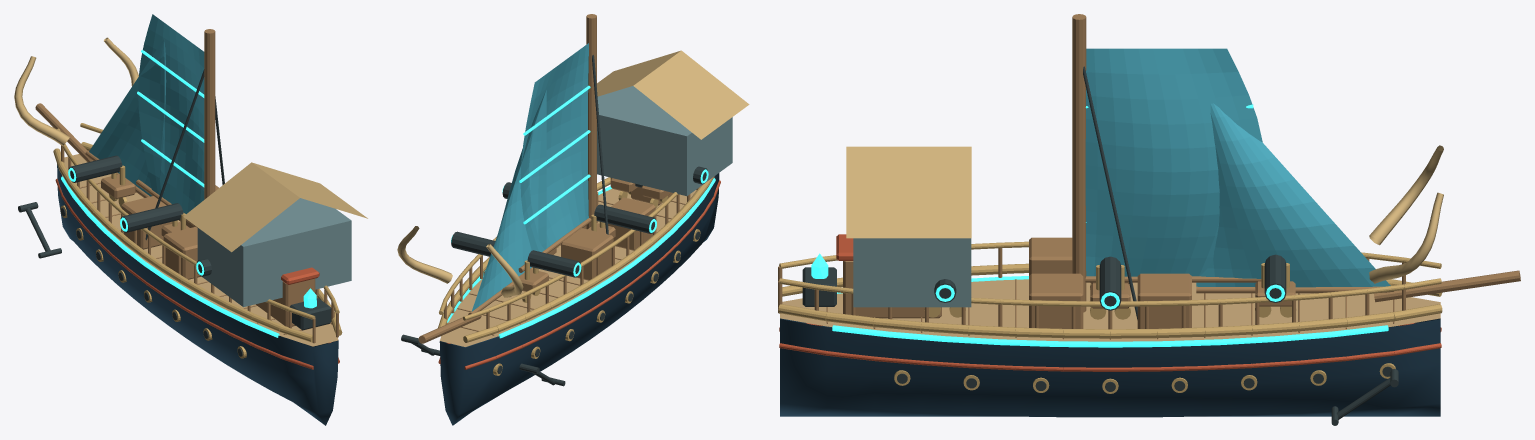
Rendered from ship_combat_cutter.glb.
3 renders of one model, left to right at view 1: azimuth 30°, elevation 25°; view 2: azimuth 150°, elevation 25°; view 3: azimuth 270°, elevation 25°, orthographic. The views are drawn at different scales.
Parts seen in each view (by area): view 1: ship_combat_cutter; view 2: ship_combat_cutter; view 3: ship_combat_cutter.
Boxes of the visible parts, x1,y1,x2,y2 form: ship_combat_cutter: [14, 14, 367, 425]; ship_combat_cutter: [397, 14, 749, 425]; ship_combat_cutter: [778, 14, 1520, 425].
Size of the model in its own units: 2.86 by 5.68 by 9.56.
